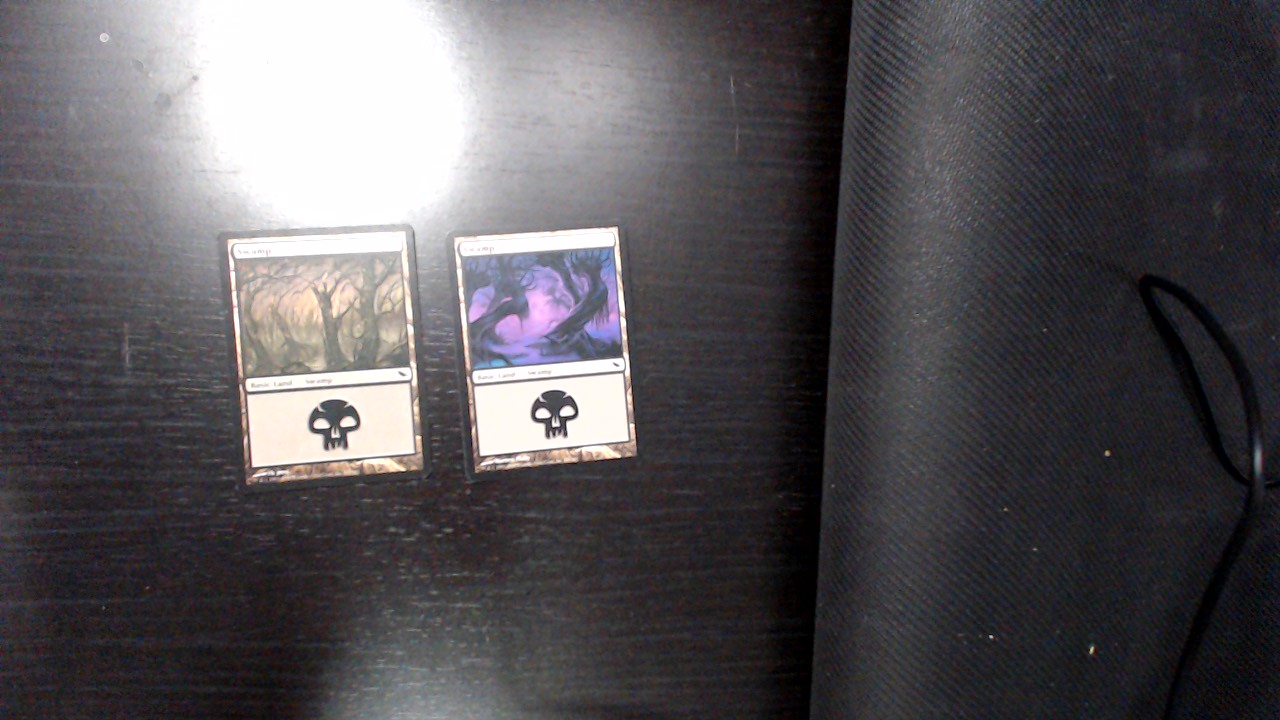MTG Card: (211, 222, 442, 493), (447, 218, 654, 484)
